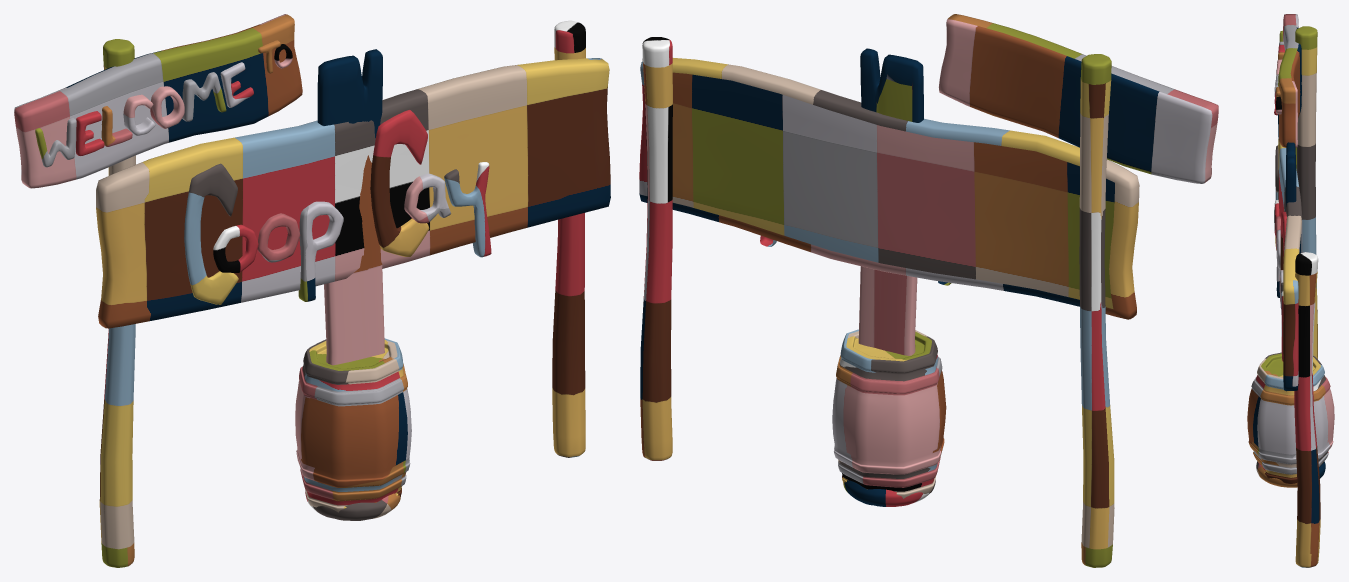
The model's file is FinishGoal.fbx.
3 views of the same model, side by side, from view 1: azimuth 30°, elevation 25°; view 2: azimuth 150°, elevation 25°; view 3: azimuth 270°, elevation 25° (orthographic). The views are drawn at different scales.
Visible parts, largest first — view 1: Sign, Barrel, Plank, SwimmingRing; view 2: Sign, Barrel, Plank, SwimmingRing; view 3: Sign, Barrel, Plank, SwimmingRing.
Part boxes in pixels (box(x1,y1,x2,y2)): Sign: box(14, 14, 610, 567); Barrel: box(295, 338, 411, 512); Plank: box(317, 49, 384, 365); SwimmingRing: box(305, 491, 400, 520); Sign: box(639, 14, 1218, 567); Barrel: box(832, 329, 946, 498); Plank: box(858, 48, 923, 355); SwimmingRing: box(843, 480, 935, 506); Sign: box(1274, 14, 1320, 567); Barrel: box(1247, 352, 1334, 483); Plank: box(1285, 142, 1296, 211); SwimmingRing: box(1256, 461, 1325, 487).
Size of the model in its own units: 1896 by 1595 by 336.
